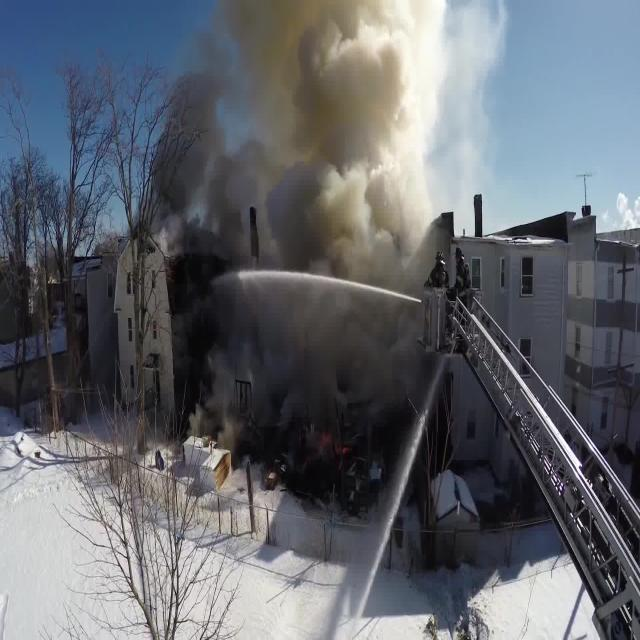Smoke: (138, 0, 502, 430)
